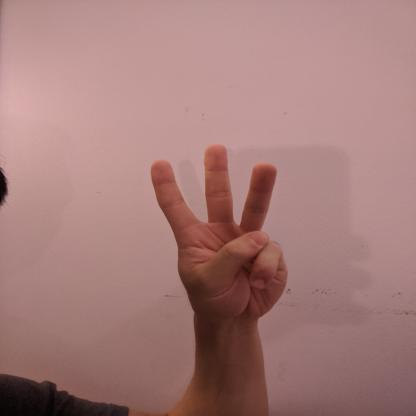W: (146, 140, 290, 322)
